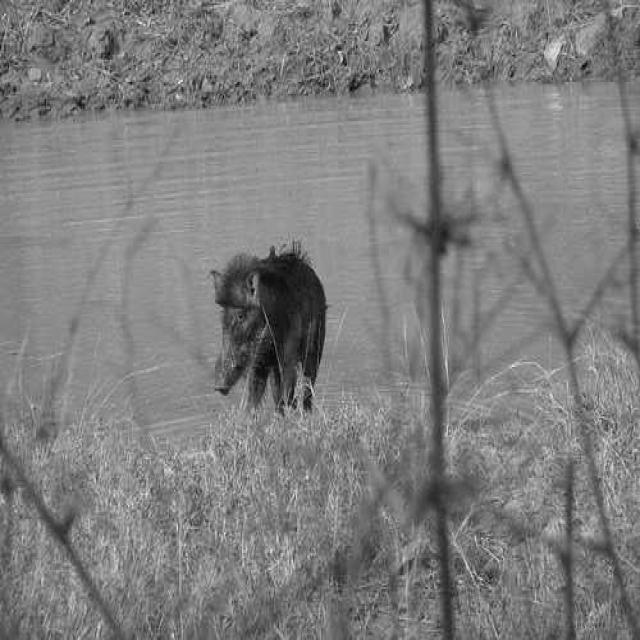boar: (213, 247, 328, 412)
